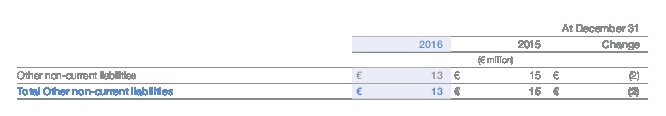table: (0, 0, 666, 116)
